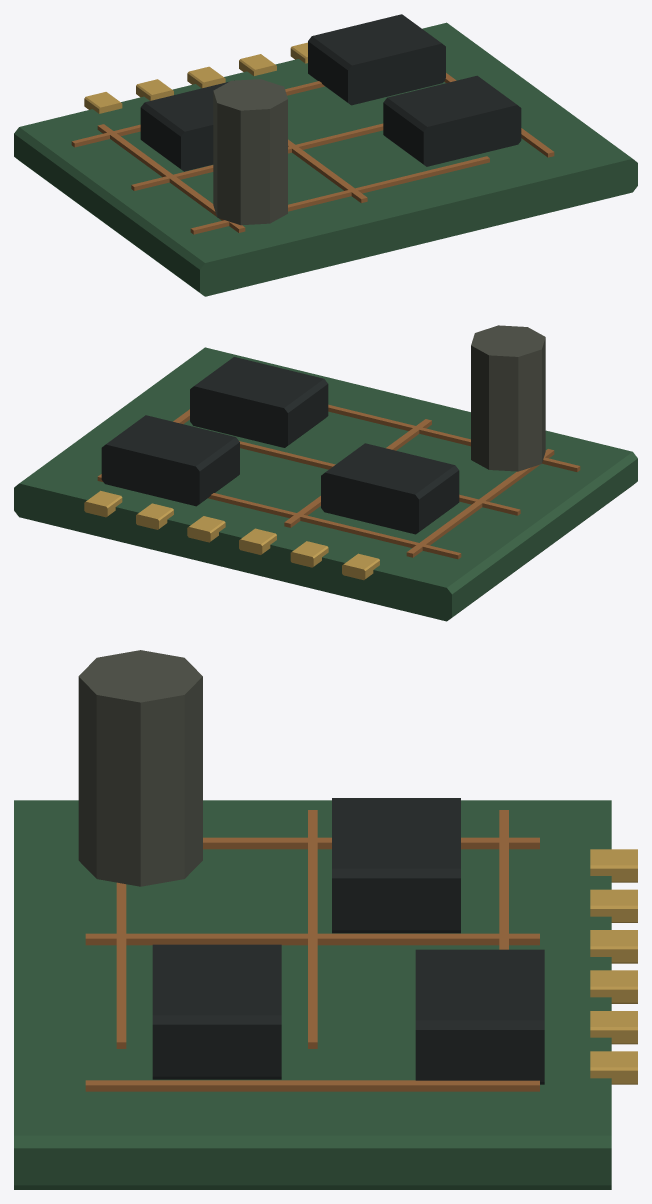
Rendered from ElectricalComponents.gltf.
3 views of the same model, one above another, from view 1: azimuth 30°, elevation 25°; view 2: azimuth 150°, elevation 25°; view 3: azimuth 270°, elevation 25° (orthographic). The views are drawn at different scales.
Visible parts, largest first — view 1: ElectricalComponents; view 2: ElectricalComponents; view 3: ElectricalComponents.
Part boxes in pixels (x1=…): ElectricalComponents: x1=14, y1=14, x2=637, y2=296; ElectricalComponents: x1=14, y1=325, x2=637, y2=621; ElectricalComponents: x1=14, y1=650, x2=637, y2=1189.
Size of the model in its own units: 0.34 by 0.113 by 0.261.
